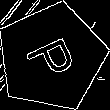P_NE: (20, 29, 83, 85)
